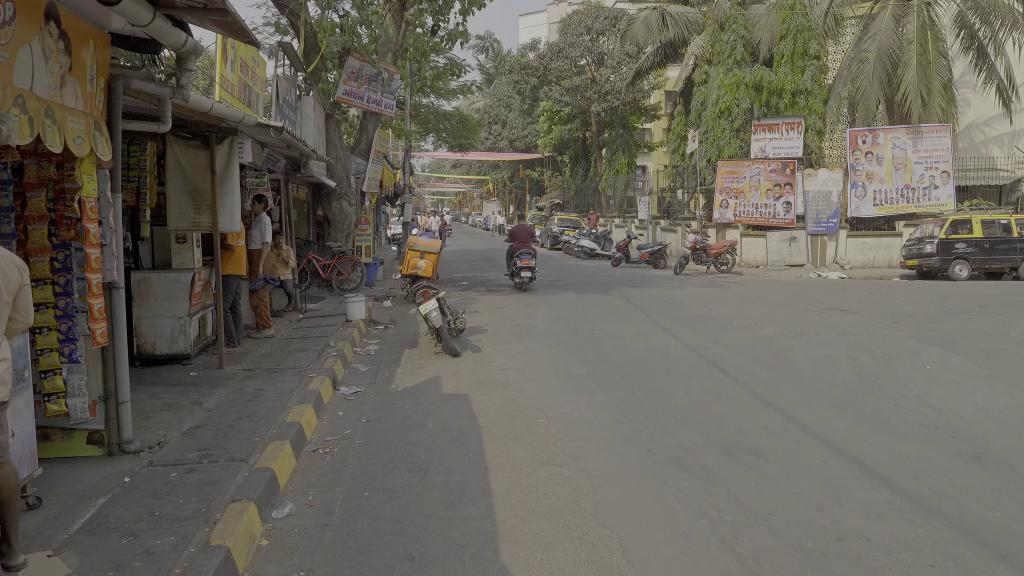dustbin: (342, 292, 369, 320)
